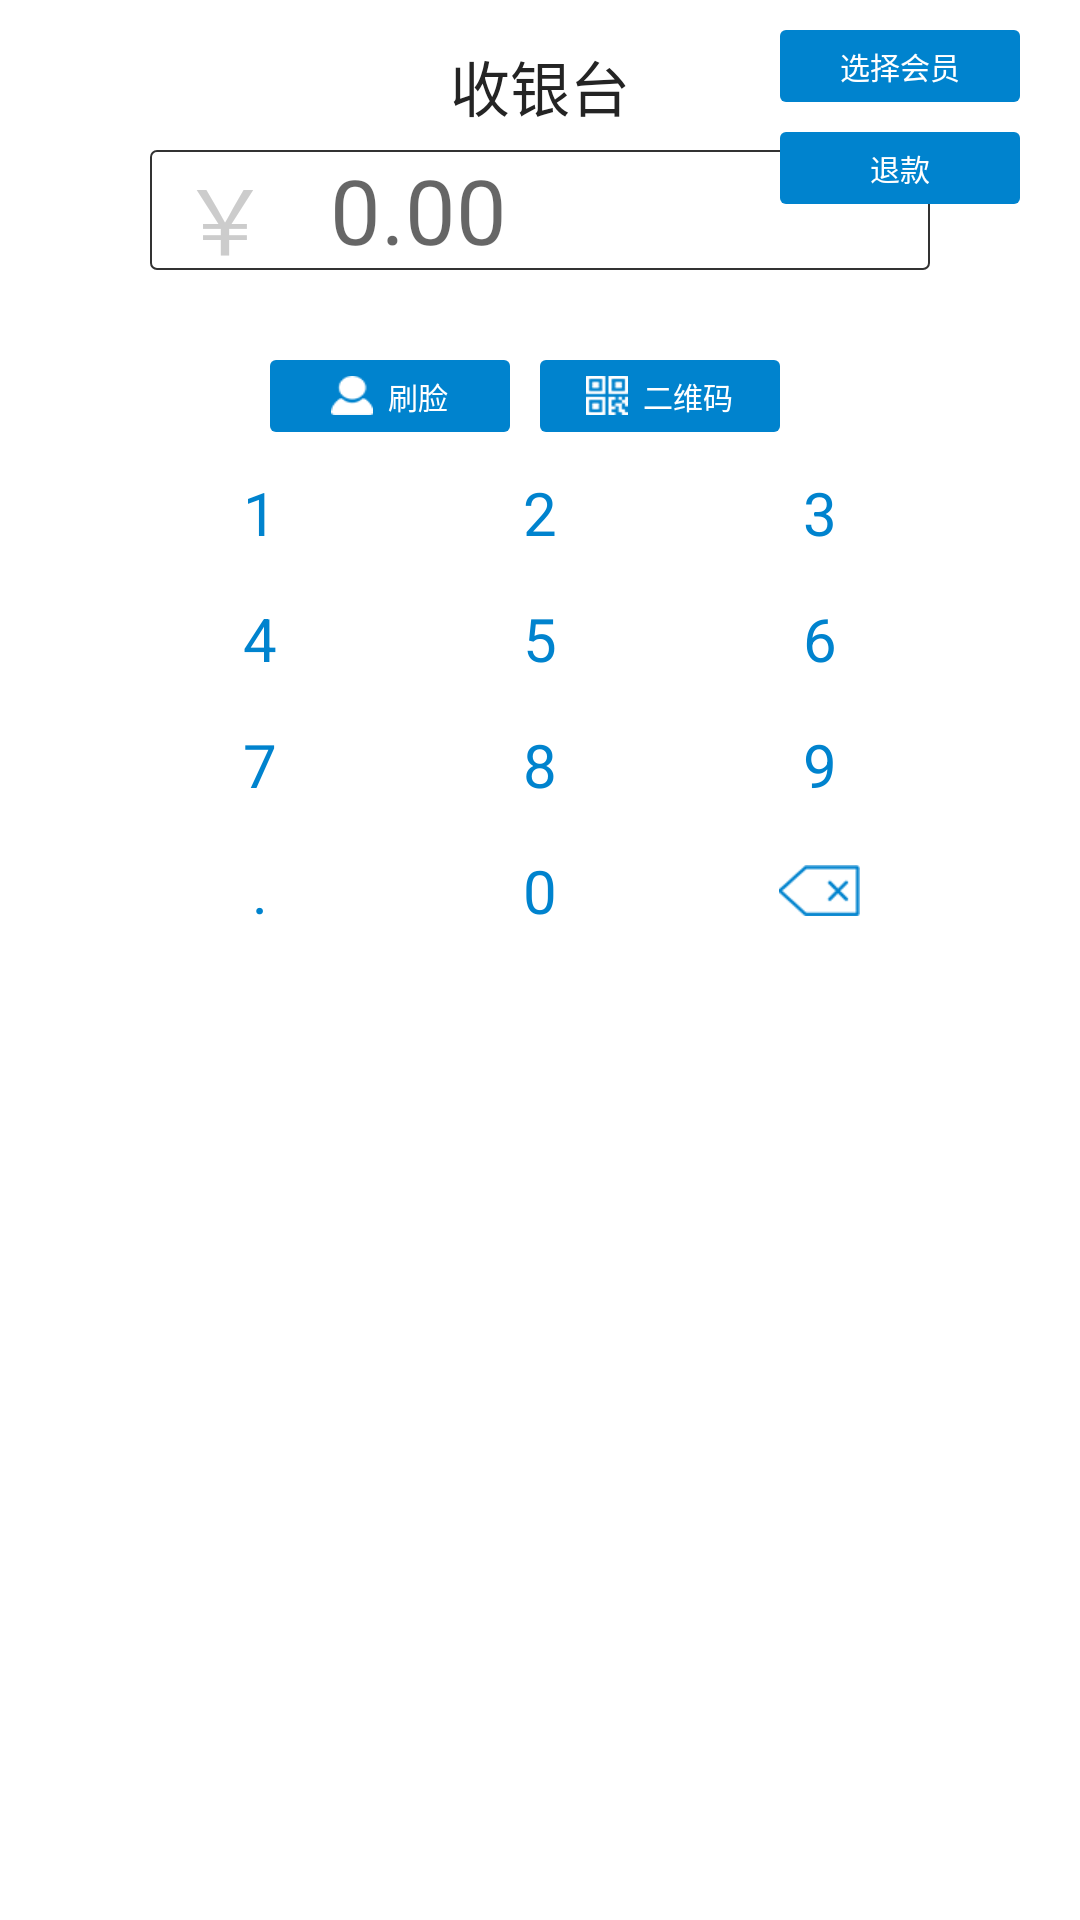

Named icons in this screenshot (1080*1920) and their centers, [x,y]:
delete: [819,890]
qrcode: [607,395]
